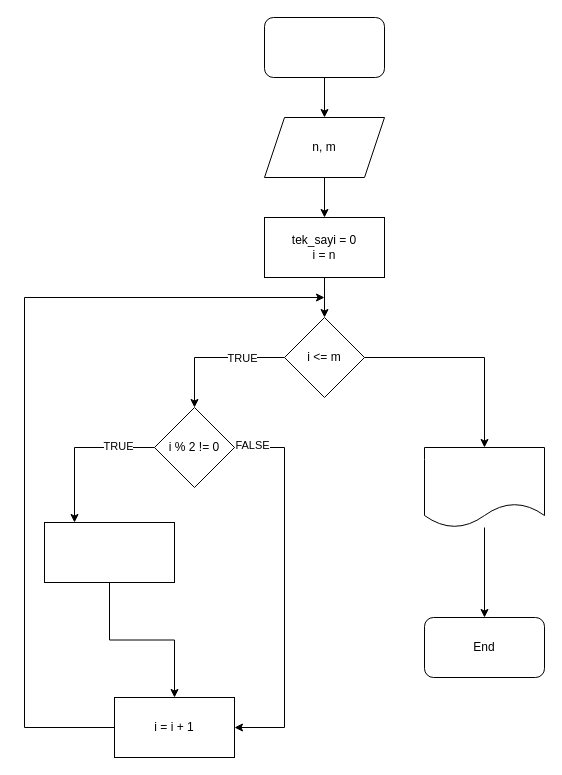
Image size: 562x775. Some labels were removed from this diagram. Each missing label, with the centre of its shape:
Start: the point at 324,47
tek_sayi: the point at 484,487
tek_sayi = tek_sayi + 1: the point at 109,552
